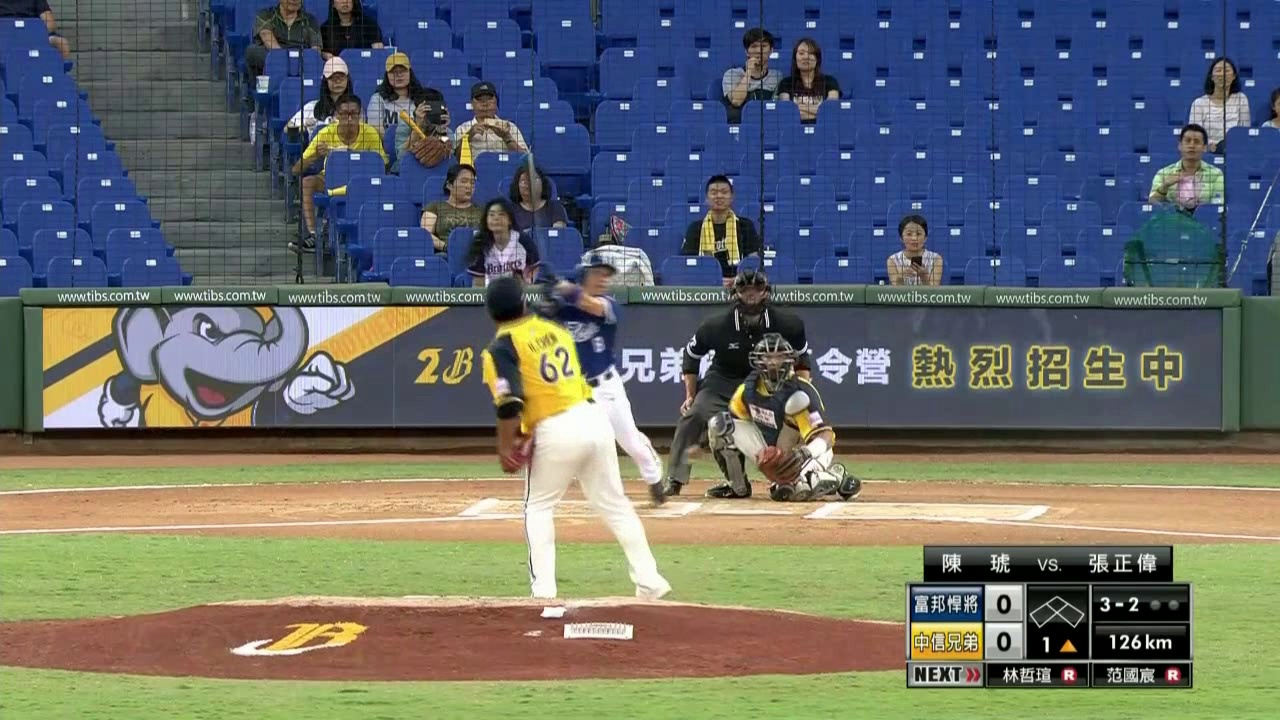base: (1029, 591, 1088, 635)
bat: (528, 159, 547, 268)
out: (1143, 592, 1181, 614)
score1: (989, 592, 1025, 621)
score2: (991, 627, 1019, 658)
session: (1028, 631, 1090, 660)
speed: (1096, 628, 1183, 660)
strikeball: (1098, 593, 1142, 621)
